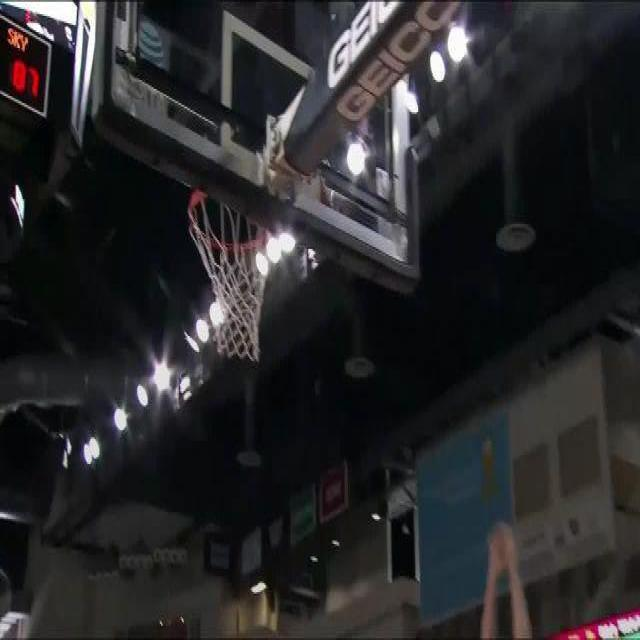hoop: (188, 186, 274, 360)
